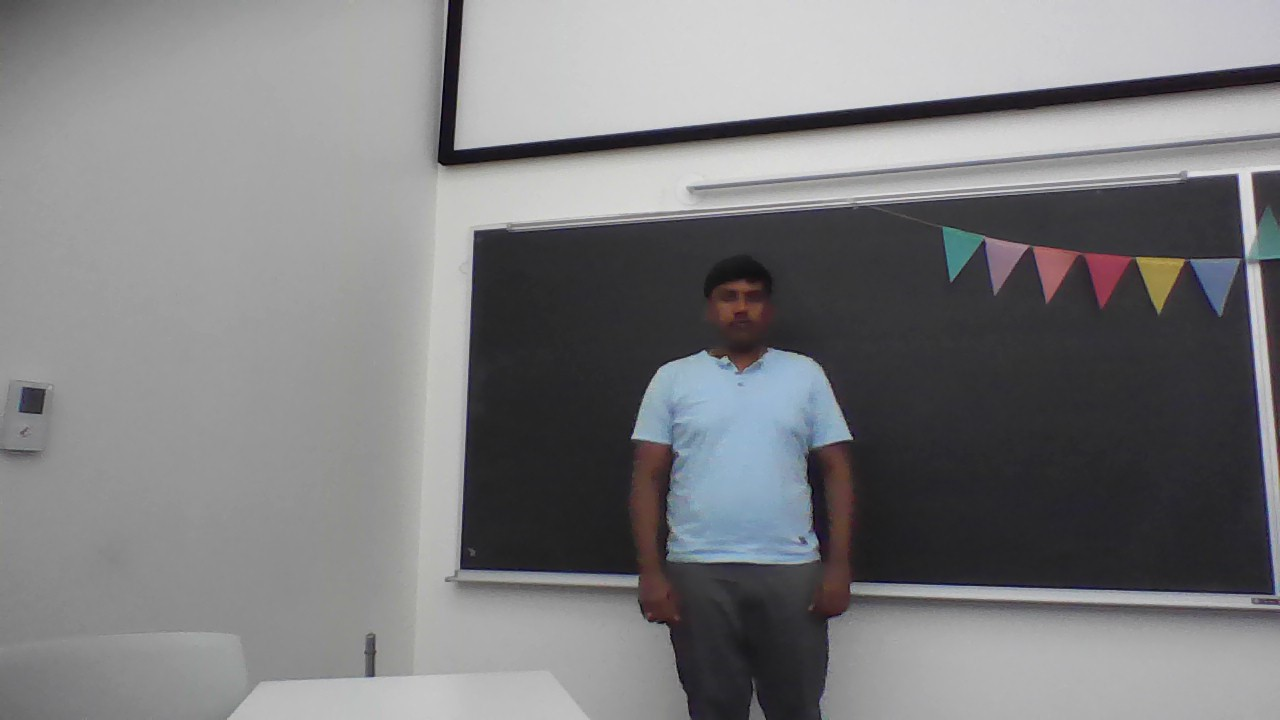height_frame: (614, 251, 879, 720)
hip_frame: (669, 550, 822, 580)
shoulder_frame: (658, 370, 826, 406)
waist_frame: (672, 474, 813, 503)
